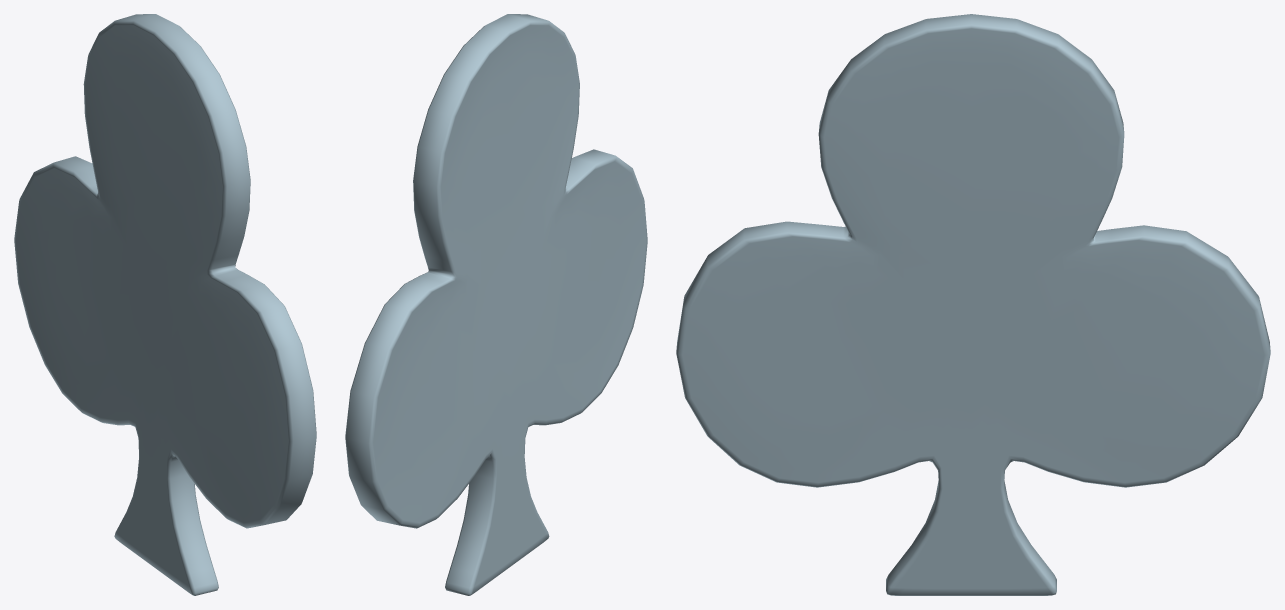
Rendered from club.glb.
3 renders of one model, left to right at view 1: azimuth 30°, elevation 25°; view 2: azimuth 150°, elevation 25°; view 3: azimuth 270°, elevation 25°, orthographic. The views are drawn at different scales.
Parts seen in each view (by area): view 1: Plane.003; view 2: Plane.003; view 3: Plane.003.
Part boxes in pixels (x1,y1,x2,y2): Plane.003: [14, 14, 316, 595]; Plane.003: [345, 14, 647, 595]; Plane.003: [676, 14, 1270, 595].
Bounding box in the file's own units: 0.2441 × 4.46 × 4.2.
